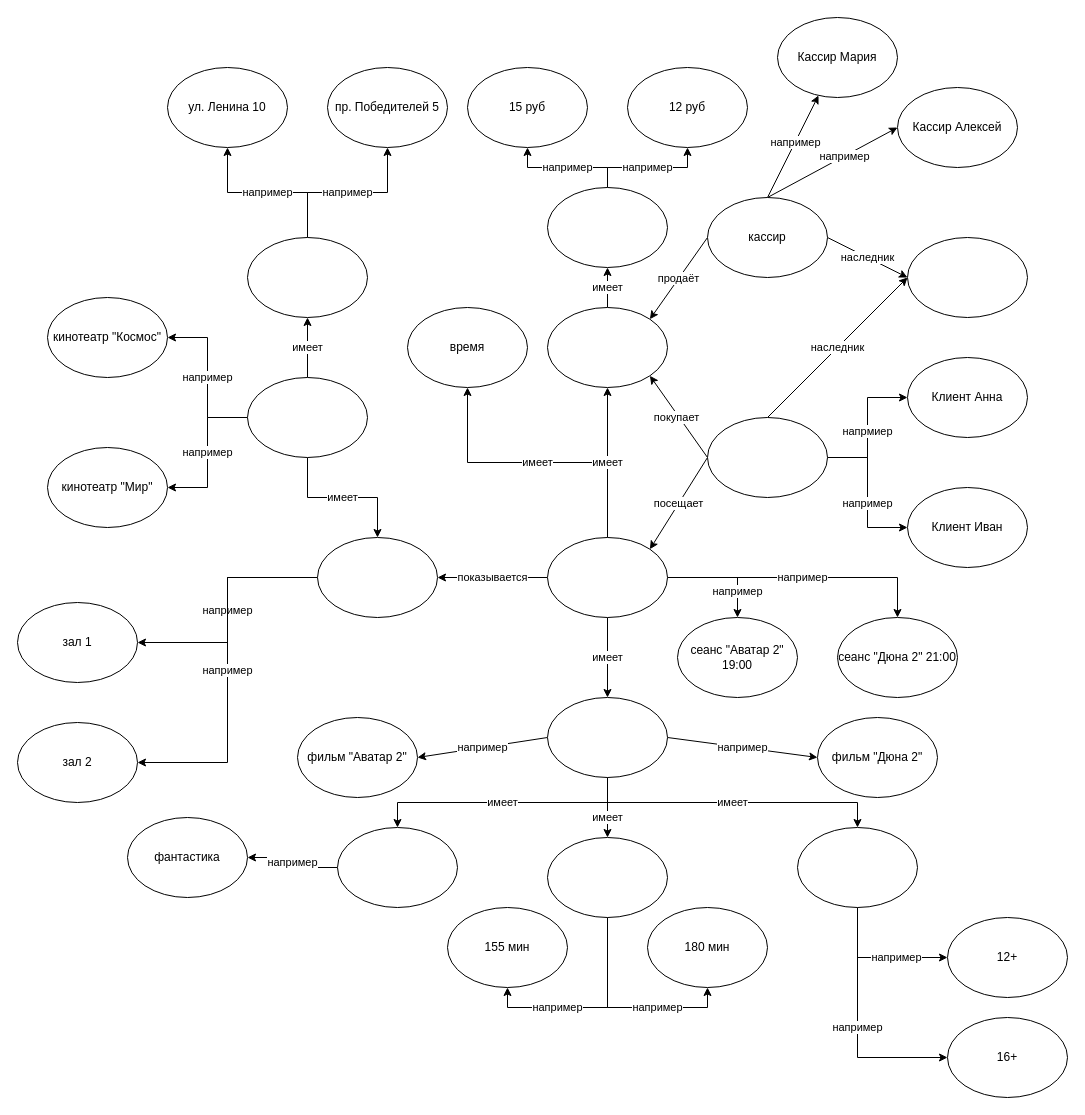
Some shapes in this 1085 by 1115 pixel diagram are drawn without their labels. The centre of each missing label's shape, as x and y in pixels:
"адрес" goes at point (307, 277).
"билет" goes at point (607, 347).
"длительность" goes at point (607, 877).
"жанр" goes at point (397, 867).
"зал" goes at point (377, 577).
"кинотеатр" goes at point (307, 417).
"клиент" goes at point (767, 457).
"рейтинг" goes at point (857, 867).
"сеанс" goes at point (607, 577).
"фильм" goes at point (607, 737).
"цена" goes at point (607, 227).
"человек" goes at point (967, 277).
